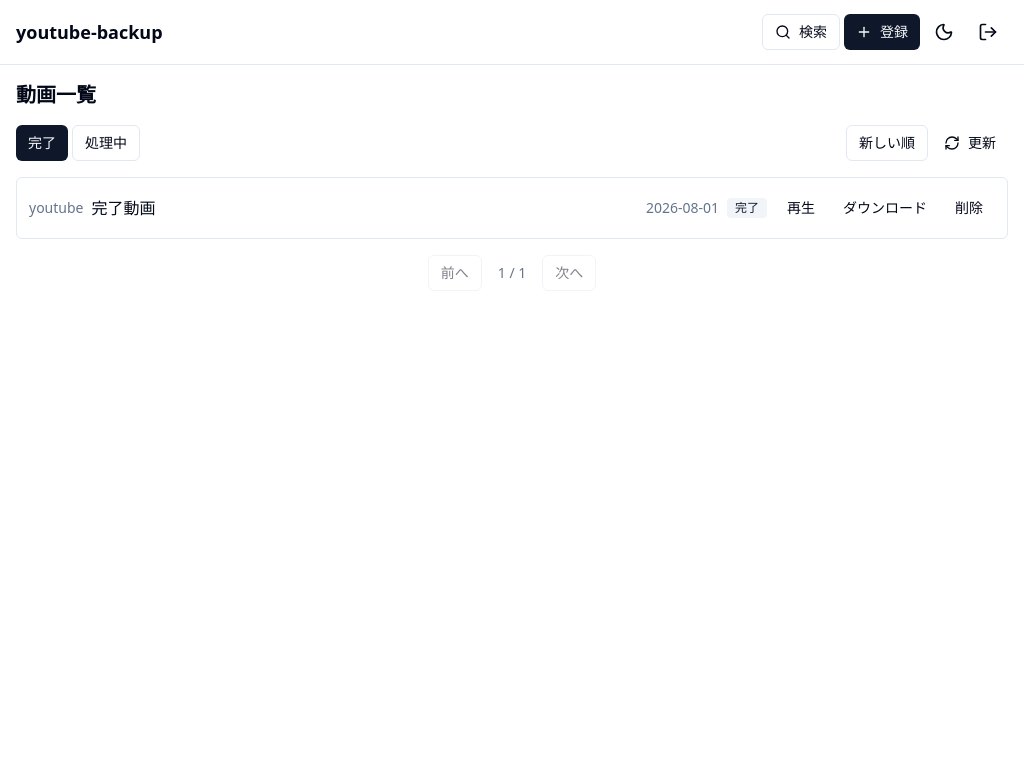
Test: 動画削除 結合（行→確認→削除 / US5.1・FR5.1・C4・C6・R-02） › transport 失敗は error 通知が出て一覧は変化しない（error-path / FR8）
Expected: the text "完了動画" is shown, 92,197 -> 156,219
Click the button with aria-label "削除: 完了動画" at coordinates (969, 208), box 943,190 -> 995,226
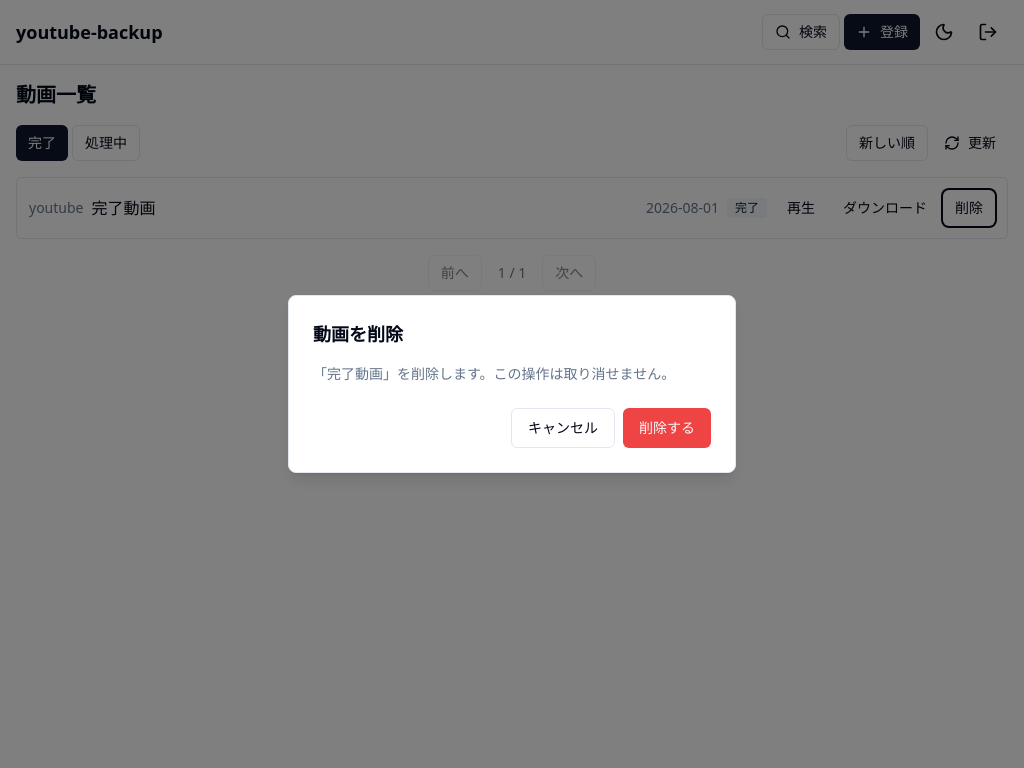
Expected: the dialog is shown, 288,295 -> 736,473
Click the button "削除する" at coordinates (667, 428), box 623,408 -> 711,448
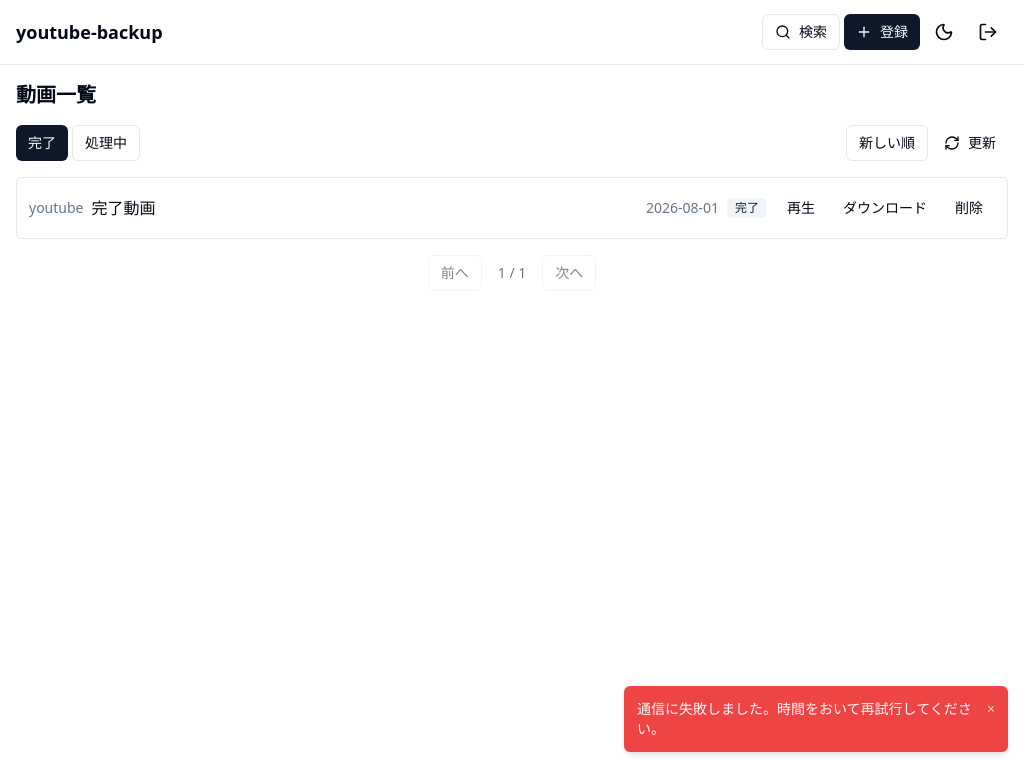
Expected: the button with aria-label "削除: 完了動画" is shown, 943,190 -> 995,226
Expected: the text "通信に失敗しました。時間をおいて再試行してください。" is shown, 637,699 -> 975,739
